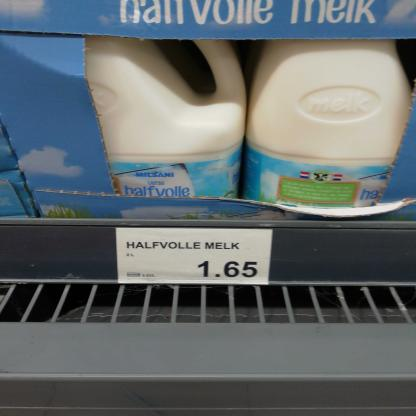prtg: (116, 229, 274, 286)
